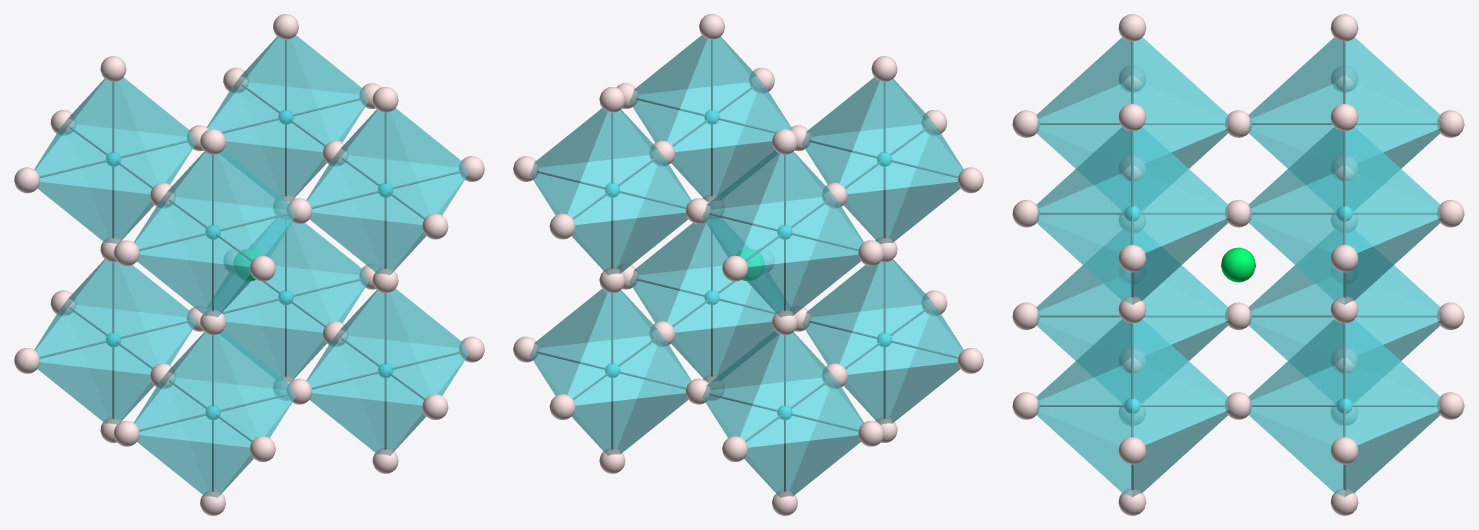
Rendered from SrLiH3.glb.
The picture shows the model from 3 angles, left to right: view 1: azimuth 30°, elevation 25°; view 2: azimuth 150°, elevation 25°; view 3: azimuth 270°, elevation 25°; orthographic projection. The views are drawn at different scales.
Parts seen in each view (by area): view 1: Shape_IndexedFaceSet, atom2_IndexedFaceSet, Shape_Cylinder, atom0_IndexedFaceSet; view 2: Shape_IndexedFaceSet, atom2_IndexedFaceSet, Shape_Cylinder, atom0_IndexedFaceSet; view 3: Shape_IndexedFaceSet, atom2_IndexedFaceSet, Shape_Cylinder, atom1_IndexedFaceSet, atom0_IndexedFaceSet.
Part boxes in pixels (x1=…): Shape_IndexedFaceSet: x1=34, y1=35, x2=467, y2=497; atom2_IndexedFaceSet: x1=14, y1=14, x2=484, y2=515; Shape_Cylinder: x1=39, y1=40, x2=460, y2=491; atom0_IndexedFaceSet: x1=105, y1=109, x2=393, y2=420; Shape_IndexedFaceSet: x1=530, y1=35, x2=963, y2=497; atom2_IndexedFaceSet: x1=513, y1=14, x2=983, y2=515; Shape_Cylinder: x1=536, y1=40, x2=958, y2=491; atom0_IndexedFaceSet: x1=604, y1=109, x2=892, y2=420; Shape_IndexedFaceSet: x1=1036, y1=37, x2=1440, y2=496; atom2_IndexedFaceSet: x1=1012, y1=14, x2=1464, y2=515; Shape_Cylinder: x1=1040, y1=41, x2=1436, y2=489; atom1_IndexedFaceSet: x1=1221, y1=247, x2=1255, y2=282; atom0_IndexedFaceSet: x1=1124, y1=206, x2=1352, y2=413.
Size of the model in its own units: 8.17 by 8.17 by 8.17.
